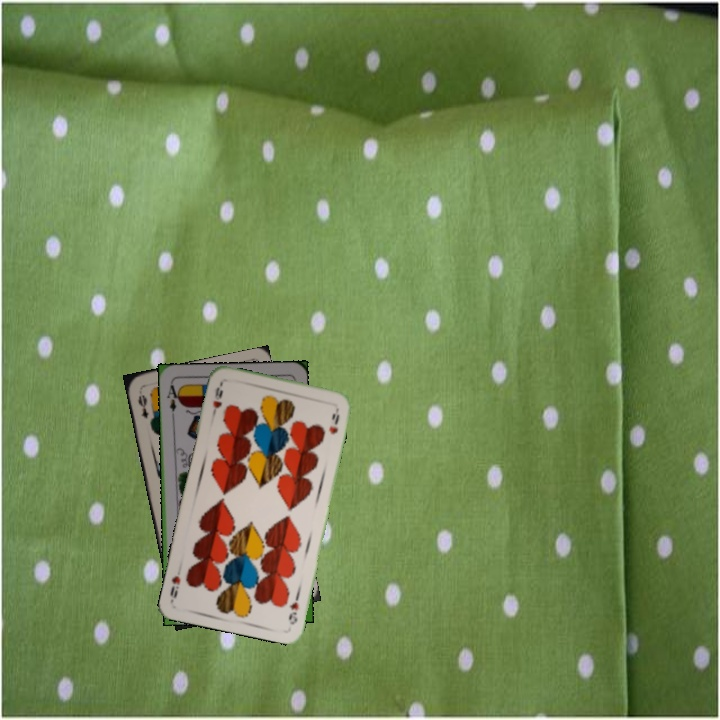EA: (163, 379, 182, 420)
EO: (134, 391, 151, 421)
H9: (208, 379, 225, 419), (285, 589, 302, 627)
